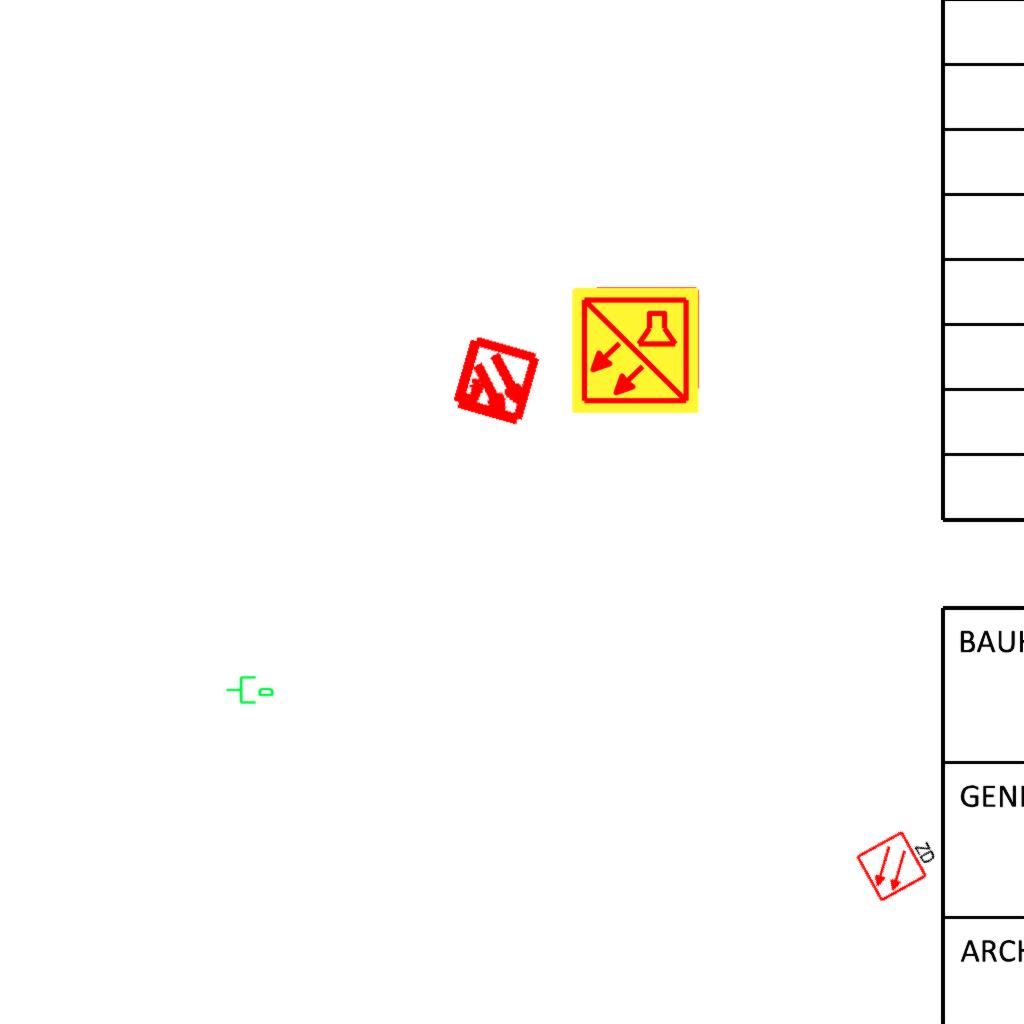Datenanschluss_einfach: (225, 672, 275, 706)
OKW_Multisensormelder_(Kombination_optischer_Rauch-Kahlenmonoxid_Waerme-Melder): (569, 284, 701, 416)
OT_Multisensormelder_(Kombination_RMO_WMD): (425, 312, 566, 453)
ZD_Melder_in_Zwischendecke_mit_Revisionsoeffnung_mind_40_x_40_cm: (853, 818, 946, 904)
